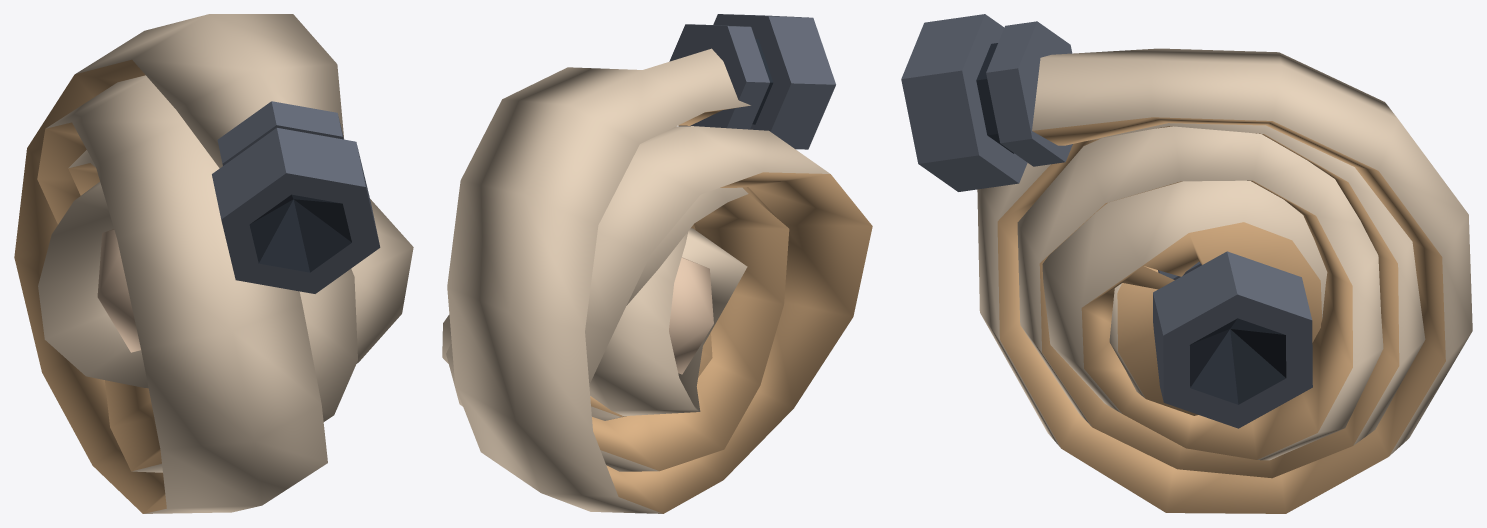
The model's file is g_o_Hose_Messy.fbx.
3 views of the same model, side by side, from view 1: azimuth 30°, elevation 25°; view 2: azimuth 150°, elevation 25°; view 3: azimuth 270°, elevation 25° (orthographic). The views are drawn at different scales.
Visible parts, largest first — view 1: g_o_Hose_Messy; view 2: g_o_Hose_Messy; view 3: g_o_Hose_Messy.
Boxes of the visible parts, box(x1,y1,x2,y2) form: g_o_Hose_Messy: box(14, 14, 413, 513); g_o_Hose_Messy: box(442, 14, 872, 513); g_o_Hose_Messy: box(901, 14, 1472, 513).
Bounding box in the file's own units: 0.2911 × 0.3905 × 0.4304.
